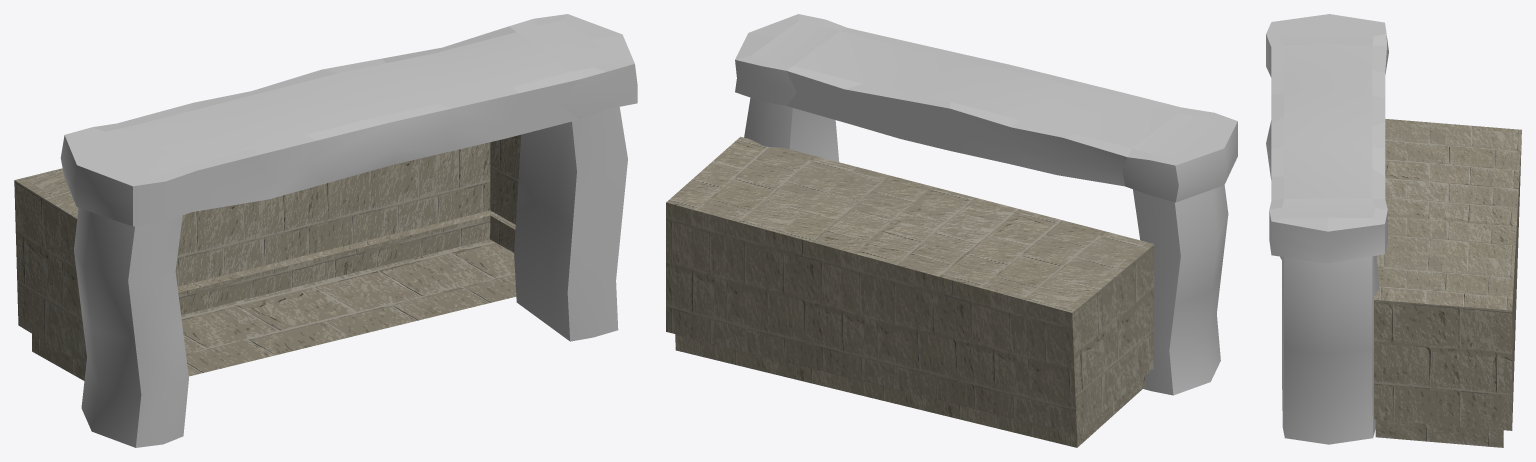
Rendered from Chimney.FBX.
3 views of the same model, side by side, from view 1: azimuth 30°, elevation 25°; view 2: azimuth 150°, elevation 25°; view 3: azimuth 270°, elevation 25° (orthographic). The views are drawn at different scales.
Visible parts, largest first — view 1: Chimney; view 2: Chimney; view 3: Chimney.
Boxes of the visible parts, left/top/right/bottom form: Chimney: left=14, top=14, right=637, bottom=447; Chimney: left=666, top=14, right=1237, bottom=447; Chimney: left=1266, top=14, right=1521, bottom=447.
Bounding box in the file's own units: 108 × 53.81 × 53.47.
